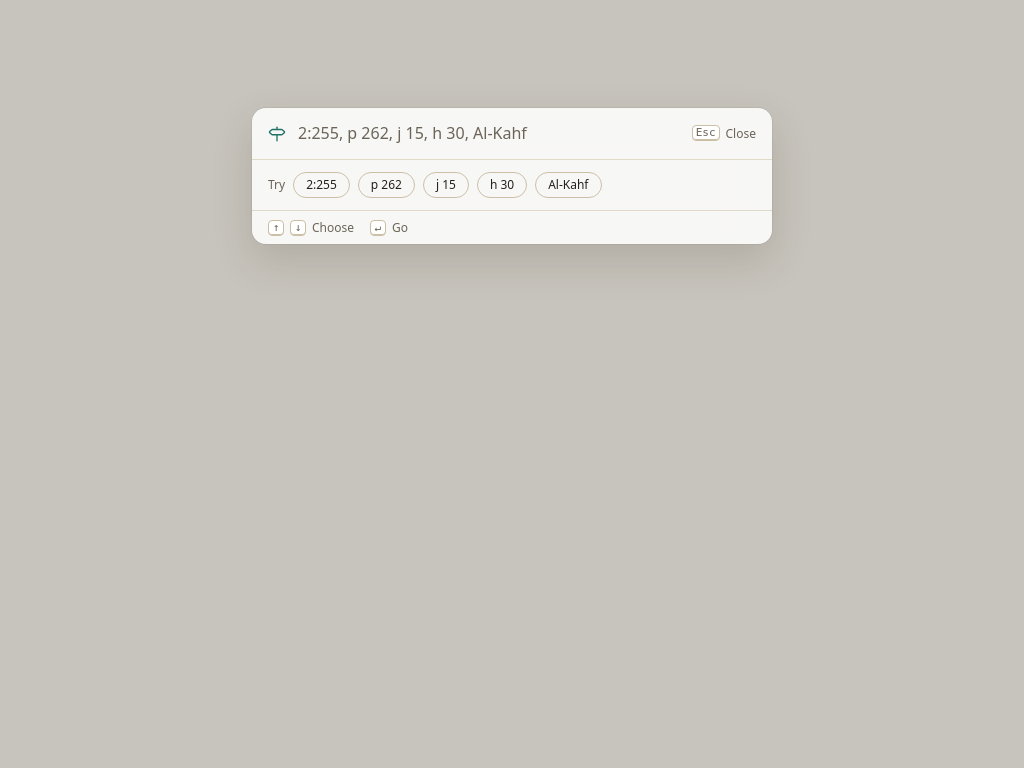
Test case: Go to › fills the input from an example
This screenshot has width=1024, height=768.
Click the button with class "chip" showing "2:255" at x=322, y=184, box x1=293 y1=172 x2=350 y2=198
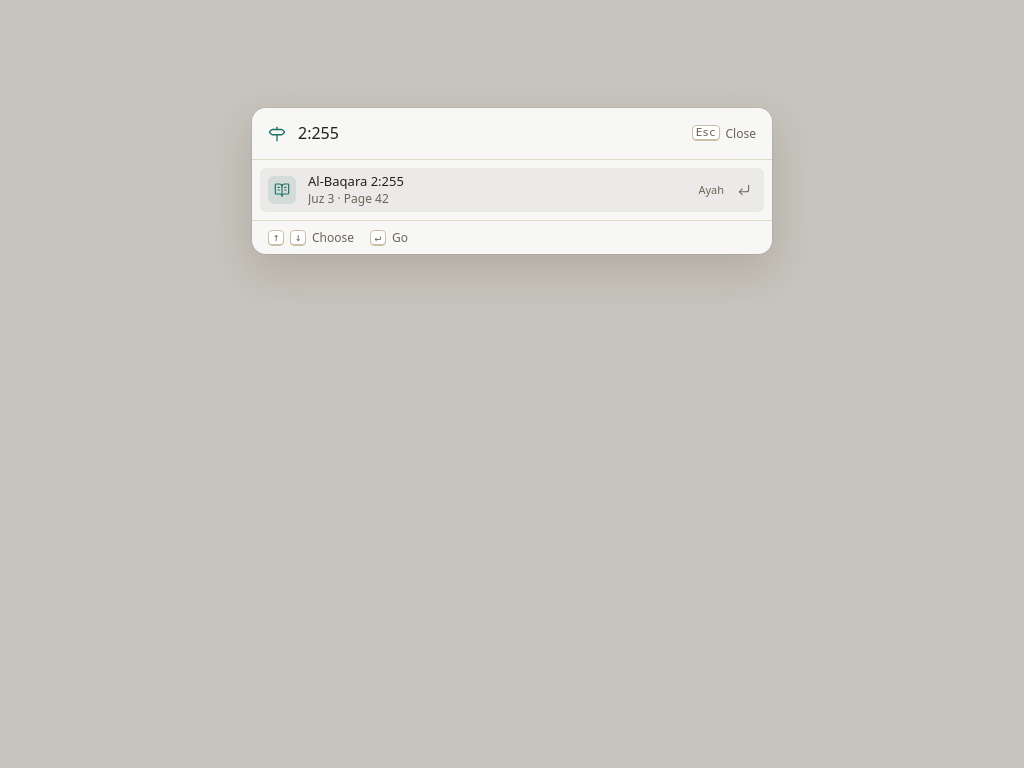
Result: the dropdown named "Go to" holds "2:255" at x1=298 y1=108 x2=680 y2=158
